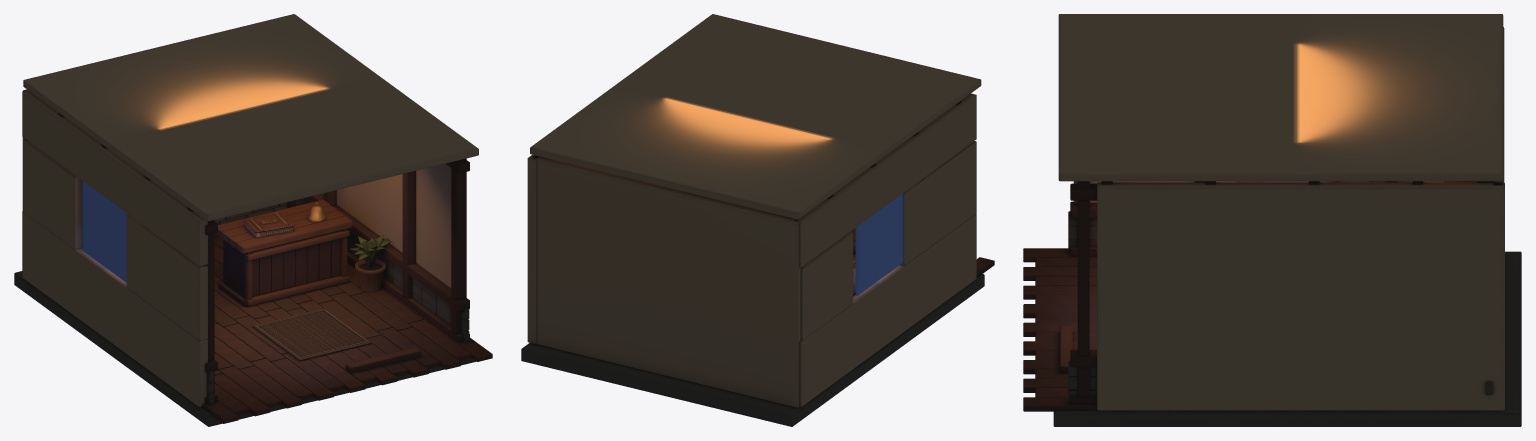
The model's file is hush-inn-night.glb.
The picture shows the model from 3 angles, left to right: view 1: azimuth 30°, elevation 25°; view 2: azimuth 150°, elevation 25°; view 3: azimuth 270°, elevation 25°; orthographic projection. The views are drawn at different scales.
Visible parts, largest first — view 1: Hush • baked room, book • interactive; view 2: Hush • baked room; view 3: Hush • baked room.
Boxes of the visible parts, left/top/right/bottom form: Hush • baked room: left=14, top=14, right=492, bottom=426; book • interactive: left=243, top=213, right=294, bottom=238; Hush • baked room: left=521, top=14, right=994, bottom=426; Hush • baked room: left=1023, top=14, right=1521, bottom=426.
Bounding box in the file's own units: 5.77 × 4.18 × 7.45.
1 material, 1 textured.
